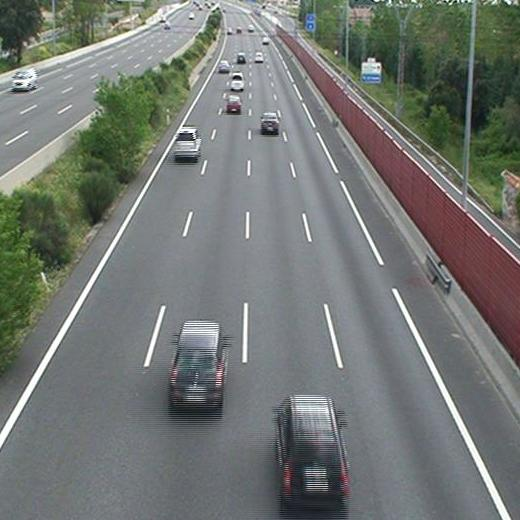car: (276, 397, 346, 502), (171, 321, 224, 403), (174, 128, 201, 157), (261, 111, 279, 131), (226, 95, 241, 111), (230, 73, 243, 90), (253, 51, 264, 62), (219, 61, 230, 72), (235, 53, 247, 63)
